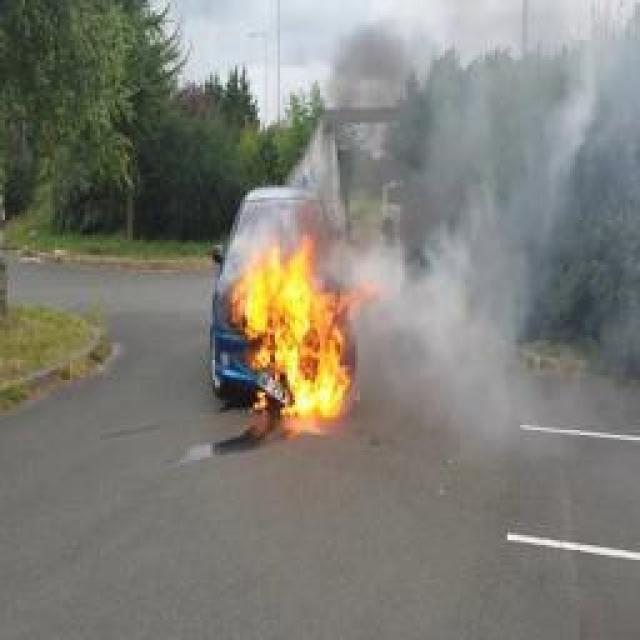Fire: (232, 232, 376, 418)
